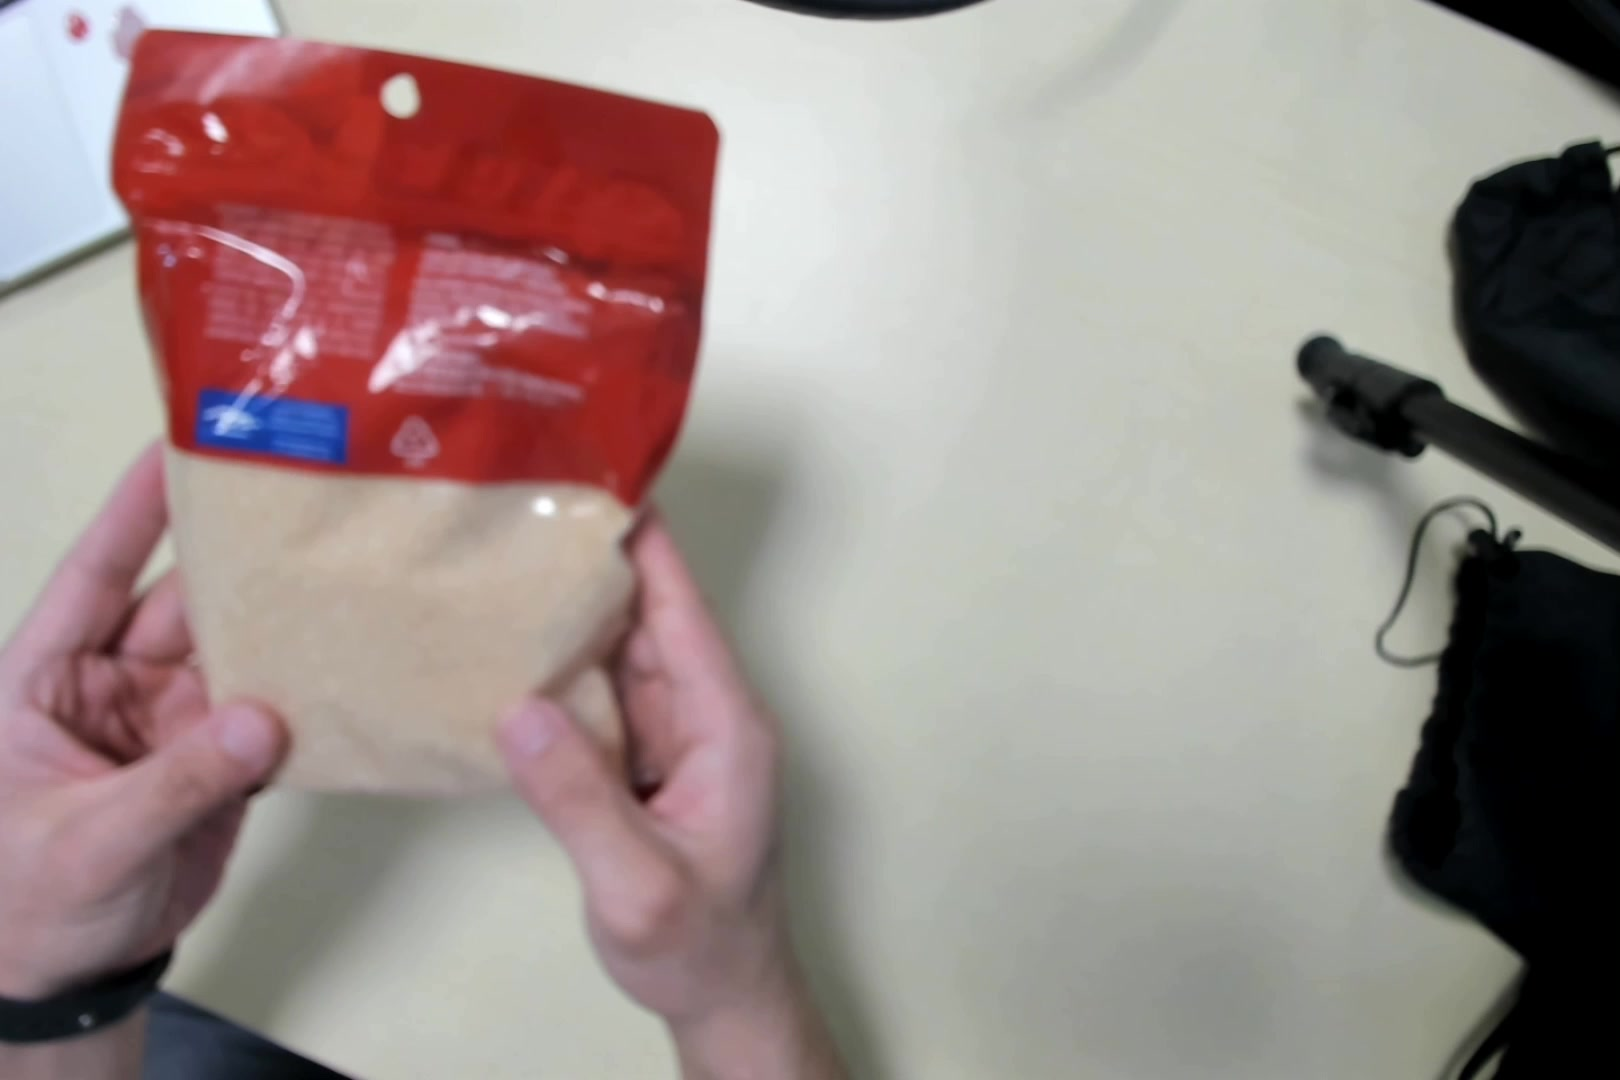Suger_200-299g_Halal_NonHealthy: (107, 22, 717, 837)
